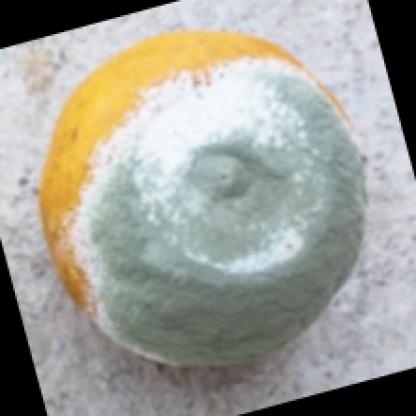rotten: (45, 30, 368, 364)
